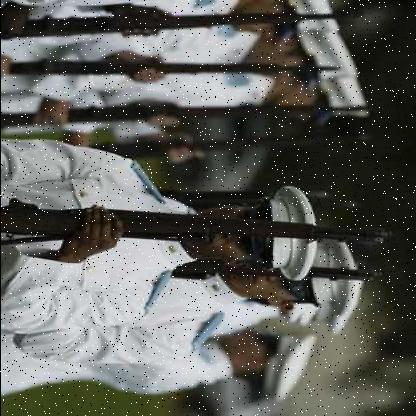rifle: (1, 184, 392, 253)
